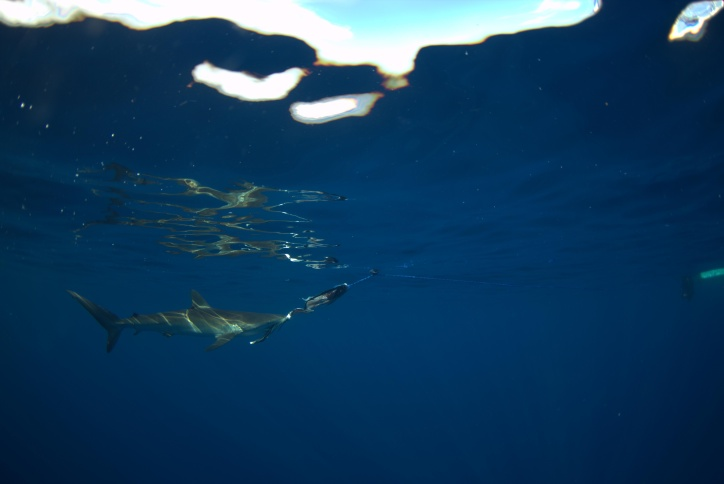Sedoso: (62, 279, 304, 366)
